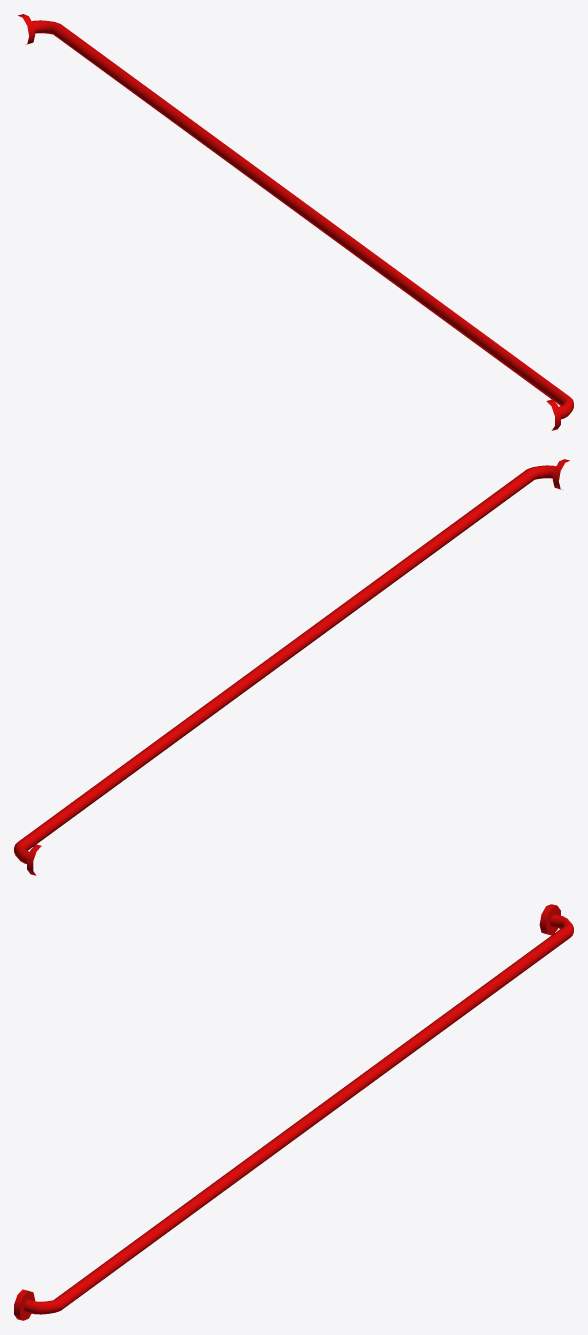
The model's file is Attic_DrapeBar_01_LP.glb.
3 views of the same model, one above another, from view 1: azimuth 30°, elevation 25°; view 2: azimuth 150°, elevation 25°; view 3: azimuth 330°, elevation 25° (orthographic).
Parts seen in each view (by area): view 1: Attic_DrapeBar_01_LP; view 2: Attic_DrapeBar_01_LP; view 3: Attic_DrapeBar_01_LP.
Part boxes in pixels (<box>): Attic_DrapeBar_01_LP: <box>18,14,573,430</box>; Attic_DrapeBar_01_LP: <box>14,459,569,875</box>; Attic_DrapeBar_01_LP: <box>14,904,573,1320</box>.
Size of the model in its own units: 0.0548 by 0.0434 by 1.53.
